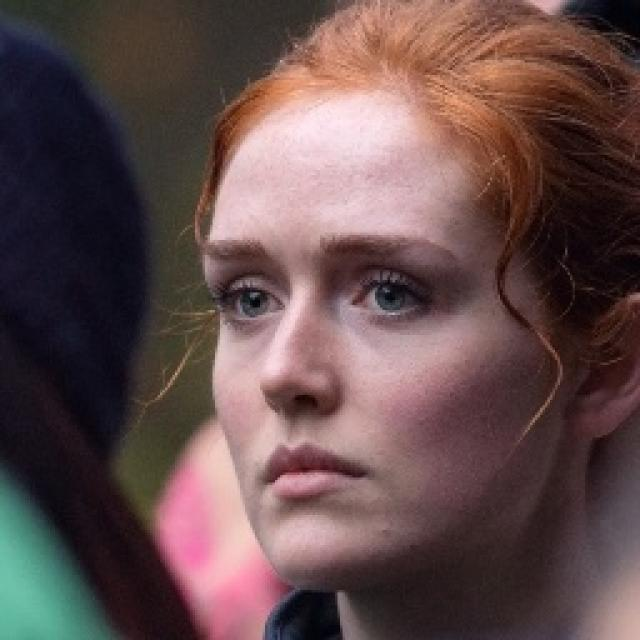earlobe: (561, 388, 612, 444)
eye: (350, 274, 424, 314), (224, 288, 282, 318)
nose: (242, 383, 342, 452)
wholeear: (560, 291, 640, 442)
